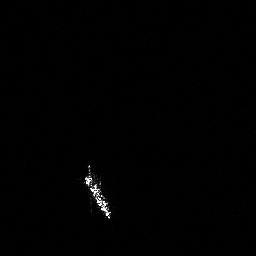ship: (81, 163, 114, 221)
